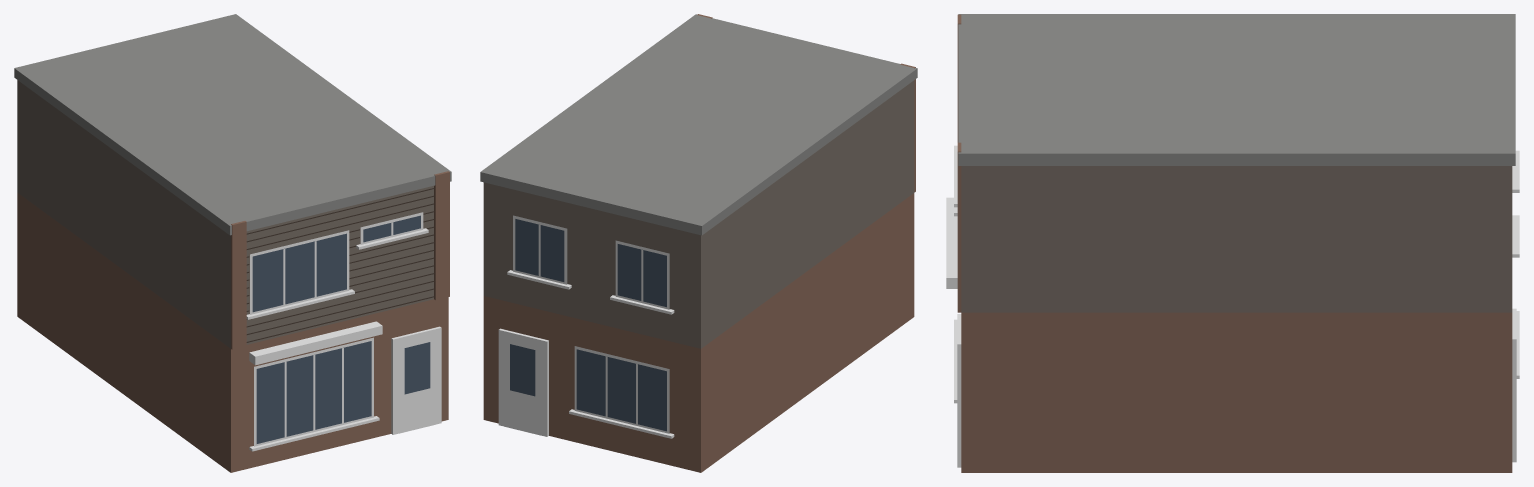
Rendered from zo-rb-timber__timber__2__flat__long__solid.glb.
3 views of the same model, side by side, from view 1: azimuth 30°, elevation 25°; view 2: azimuth 150°, elevation 25°; view 3: azimuth 270°, elevation 25° (orthographic). The views are drawn at different scales.
Visible parts, largest first — view 1: zo-rb-timber__timber__2__flat__long__solid; view 2: zo-rb-timber__timber__2__flat__long__solid; view 3: zo-rb-timber__timber__2__flat__long__solid.
Part boxes in pixels (x1,y1,x2,y2): zo-rb-timber__timber__2__flat__long__solid: [14, 14, 451, 472]; zo-rb-timber__timber__2__flat__long__solid: [480, 14, 917, 472]; zo-rb-timber__timber__2__flat__long__solid: [946, 14, 1519, 472].
Size of the model in its own units: 5.4 by 5.79 by 9.37.
